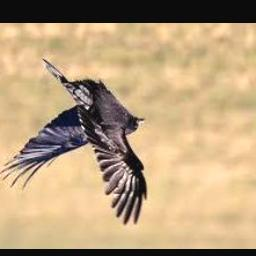Crow: (0, 60, 147, 226)
